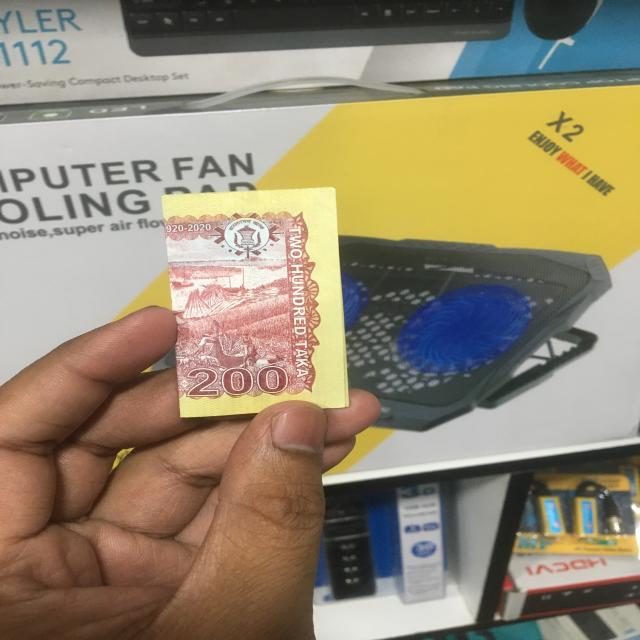Taka: (165, 192, 352, 420)
